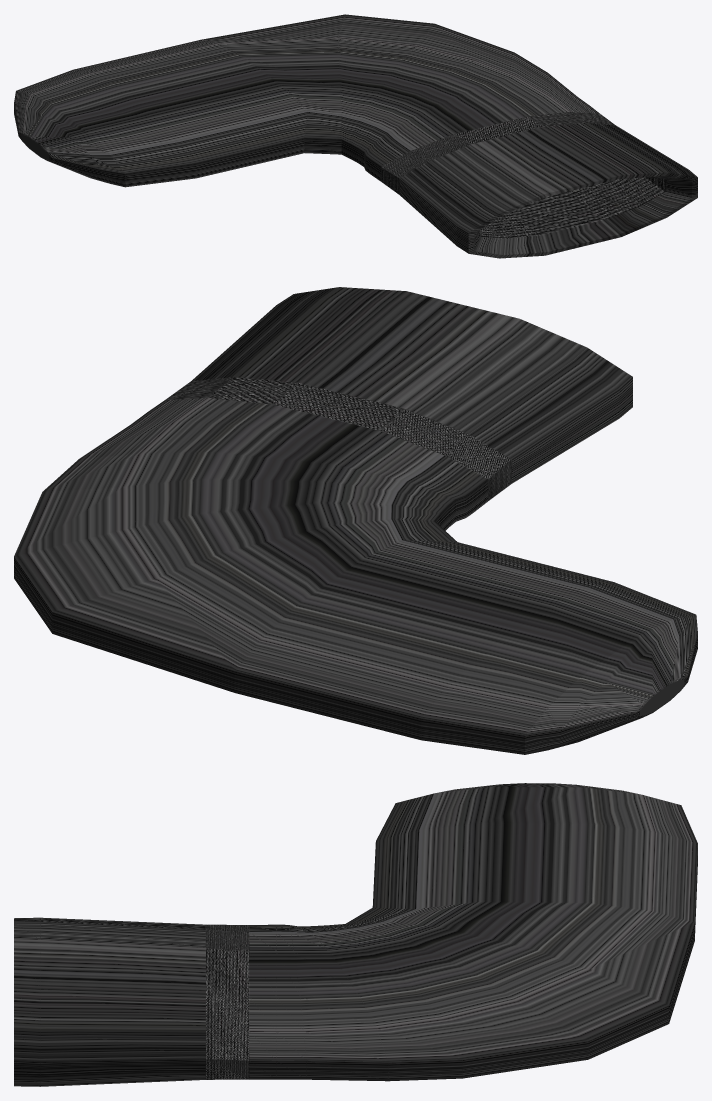
File: calcetin4.fbx
3 renders of one model, top to bottom at view 1: azimuth 30°, elevation 25°; view 2: azimuth 150°, elevation 25°; view 3: azimuth 270°, elevation 25°, orthographic. The views are drawn at different scales.
Parts seen in each view (by area): view 1: sock:Mesh; view 2: sock:Mesh; view 3: sock:Mesh.
Boxes of the visible parts, left/top/right/bottom form: sock:Mesh: left=14, top=14, right=697, bottom=258; sock:Mesh: left=14, top=287, right=697, bottom=754; sock:Mesh: left=14, top=783, right=697, bottom=1086.
Size of the model in its own units: 6.42 by 0.8268 by 6.54.
Materials: 1 (1 with a texture image).
